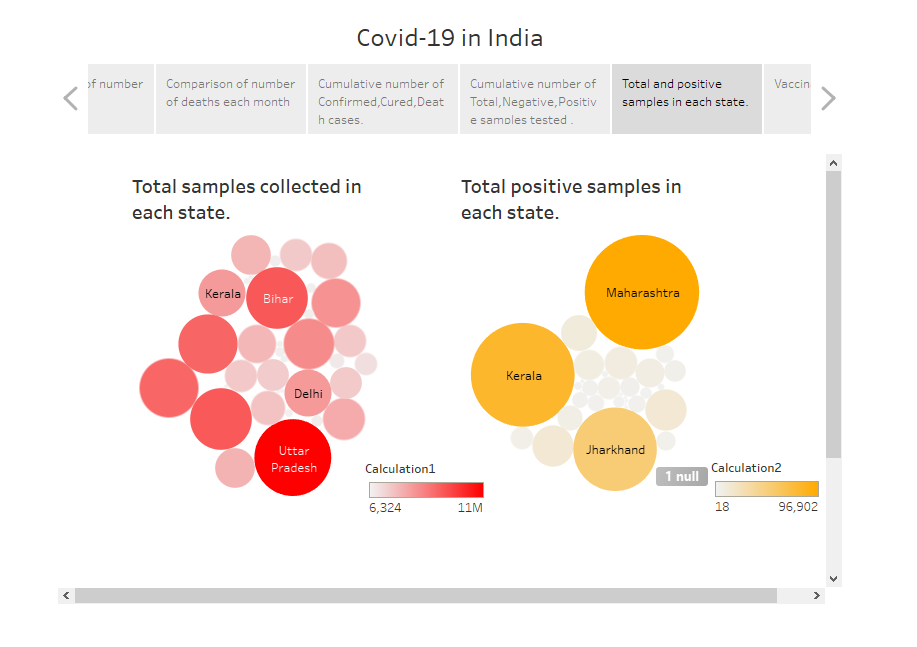

The page's visual inventory and layout, read from the dashboard file:
{"tool":"tableau","page":{"name":"Dashboard 4","canvas":[800,600],"ordinal":3},"visuals":[{"type":"worksheet","title":"samples/state","mark":"Circle","box":[70,14,482,328]},{"type":"worksheet","title":"positive/state","mark":"Circle","box":[399,14,383,323]},{"type":"legend","title":"positive/state","param":"[federated.1avdxik0svp37g12d28bp0f9u0zo].[sum:Positive:qk]","box":[653,305,112,57]},{"type":"legend","title":"samples/state","param":"[federated.1avdxik0svp37g12d28bp0f9u0zo].[sum:TotalSamples:qk]","box":[307,306,123,58]}]}

Visuals, with their boxes on the page's 800x600 design canvas (x1, y1, x2, y2). These are canvas units, not pixel positions in the 917x647 screenshot, which may show the page scaled, cropped or inside an application window:
"samples/state" worksheet (Circle marks): bbox=[70, 14, 552, 342]
"positive/state" worksheet (Circle marks): bbox=[399, 14, 782, 337]
"positive/state" legend: bbox=[653, 305, 765, 362]
"samples/state" legend: bbox=[307, 306, 430, 364]
